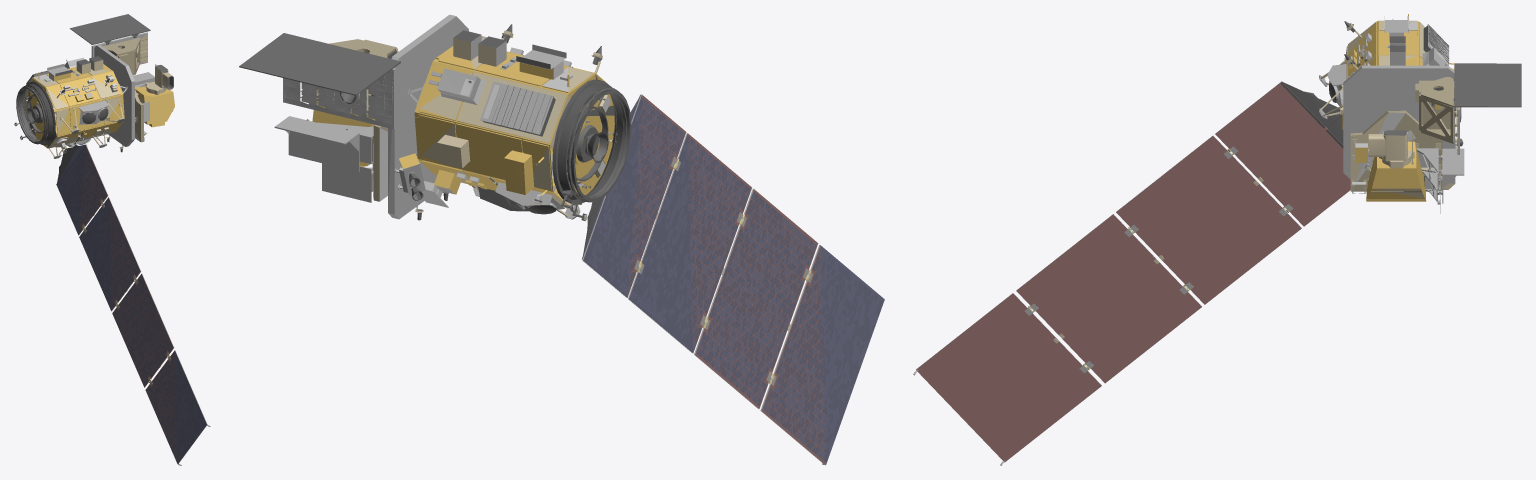
File: landsat8.glb
3 renders of one model, left to right at view 1: azimuth 30°, elevation 25°; view 2: azimuth 150°, elevation 25°; view 3: azimuth 270°, elevation 25°, orthographic. The views are drawn at different scales.
Visible parts, largest first — view 1: solar-panel, body, foil; view 2: solar-panel, body, foil; view 3: solar-panel, body, foil.
Boxes of the visible parts, x1,y1,x2,y2 form: solar-panel: (32,64,206,463); body: (14,14,210,465); foil: (29,73,174,147); solar-panel: (414,46,884,464); body: (239,14,825,465); foil: (312,62,614,205); solar-panel: (916,21,1422,462); body: (913,16,1521,465); foil: (1347,14,1456,201).
Bounding box in the file's own units: 4.97 × 10.04 × 12.26.
